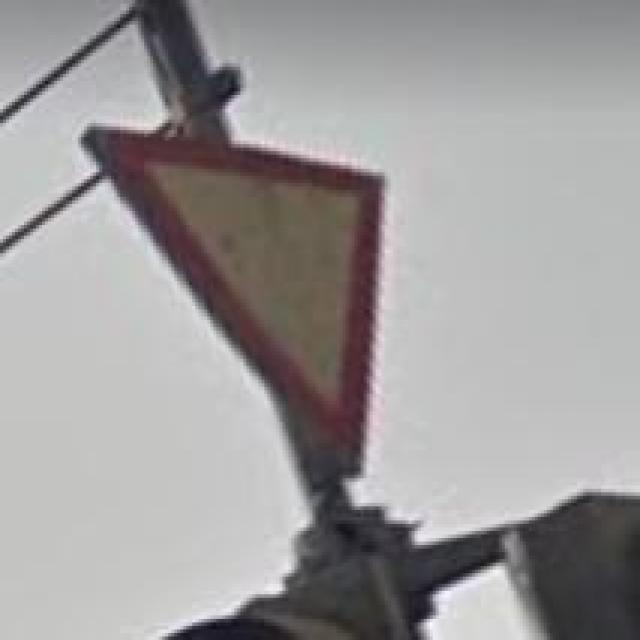traffic_sign: (84, 120, 385, 478)
